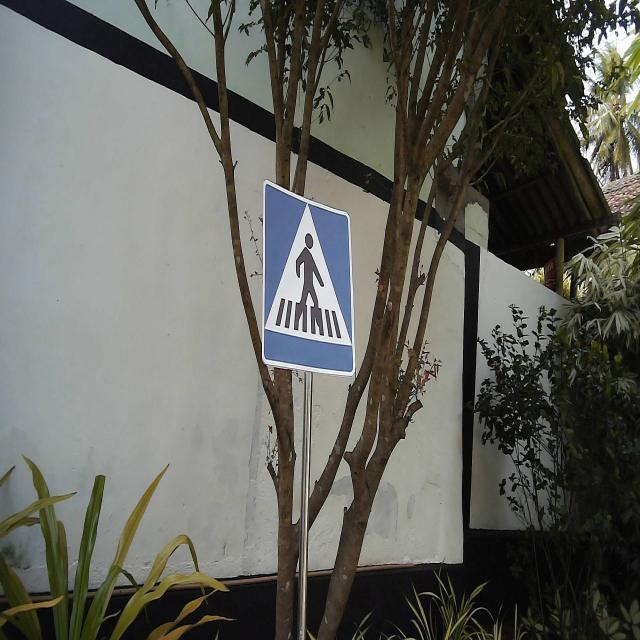crosswalk_sign: (260, 176, 358, 380)
